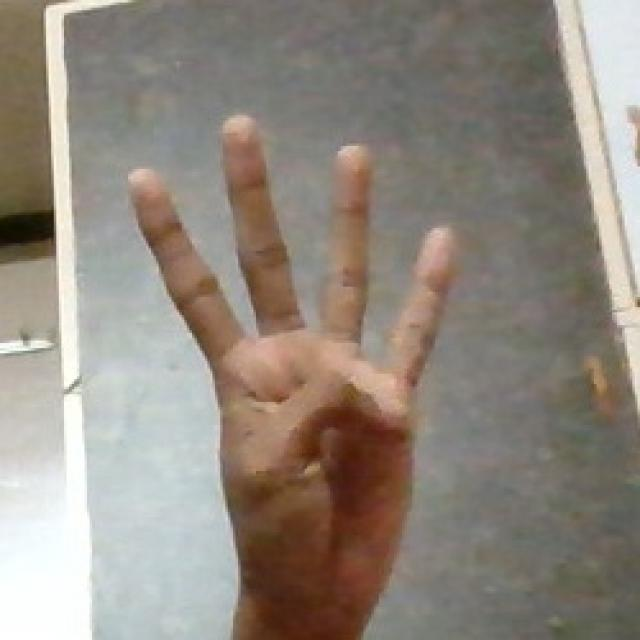Numeric-4: (129, 111, 460, 604)
